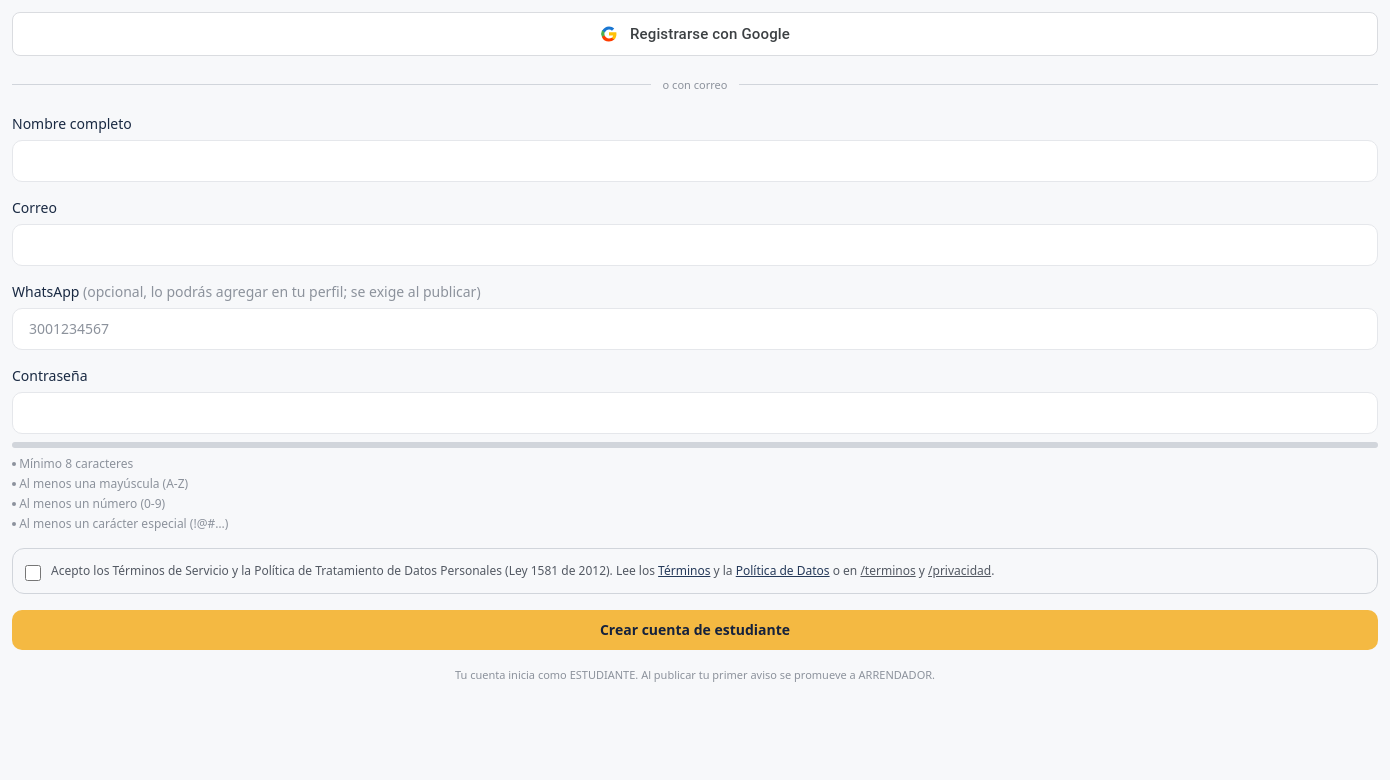
Test: RegistroForm cobertura honesta (Ley 1581 + progressive profiling) › error 400 del backend muestra mensaje sin lanzar
Type "Ana Ríos" into the field labelled "Nombre completo". click: (695, 161)
box: [12, 140, 1378, 182]
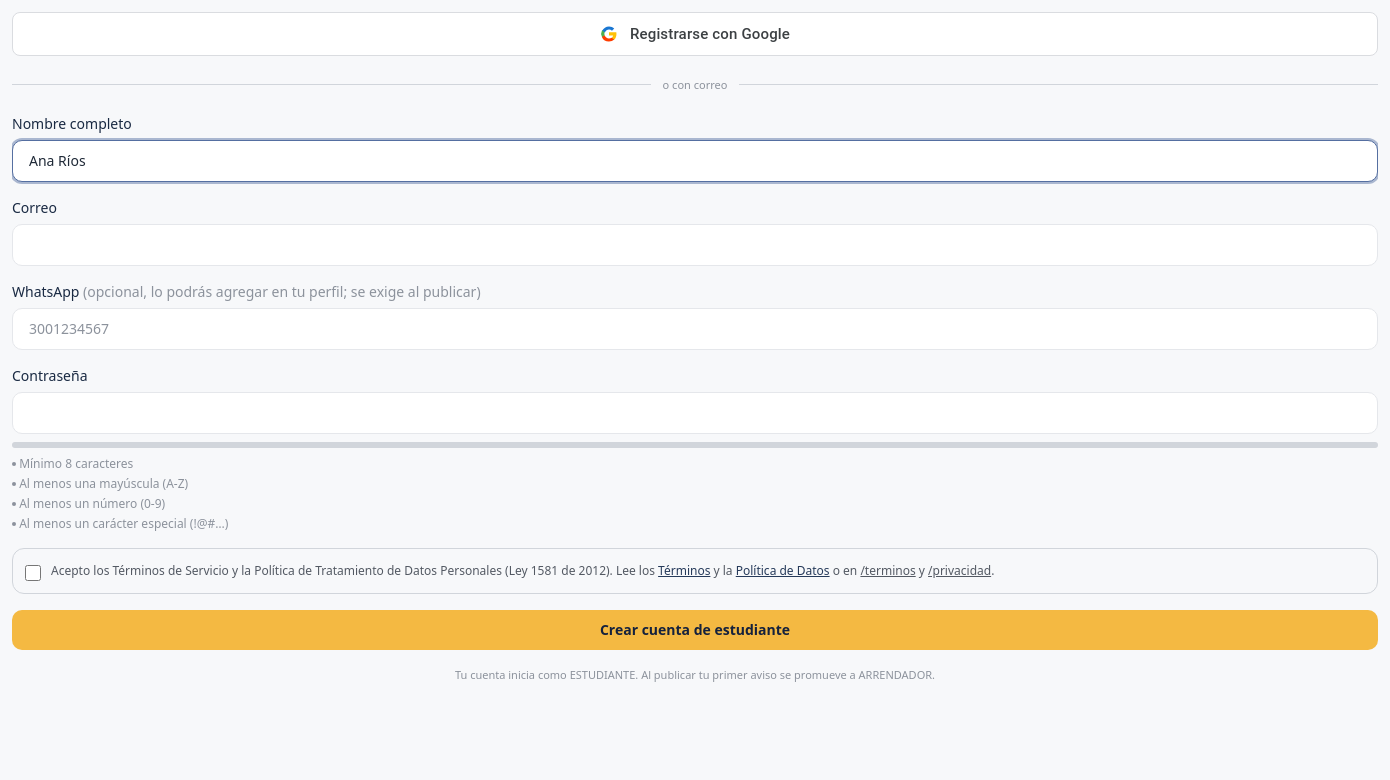
Type "dup@x.co" into the field labelled "Correo". click: (695, 245)
box: [12, 224, 1378, 266]
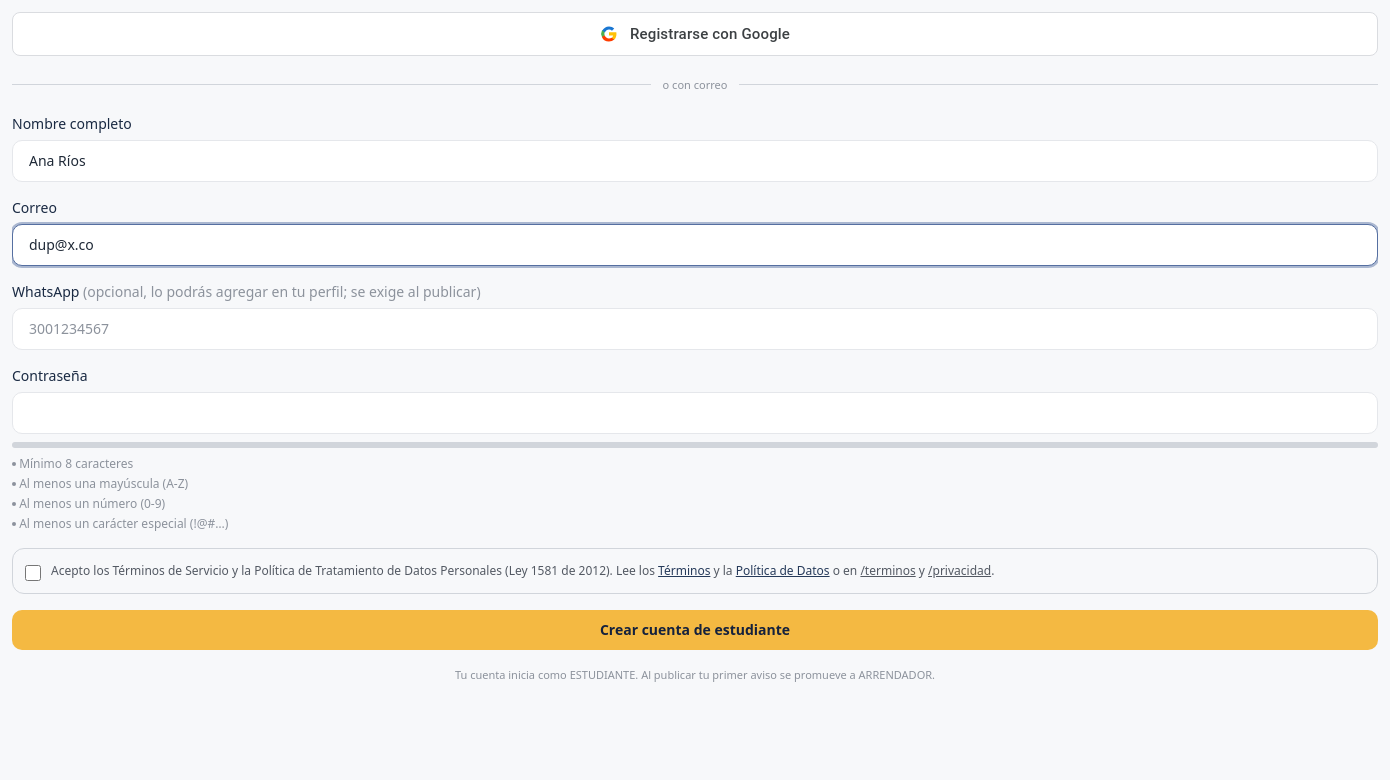
Type "Fuerte1!x" into the password field labelled "Contraseña". click: (695, 413)
box: [12, 392, 1378, 434]
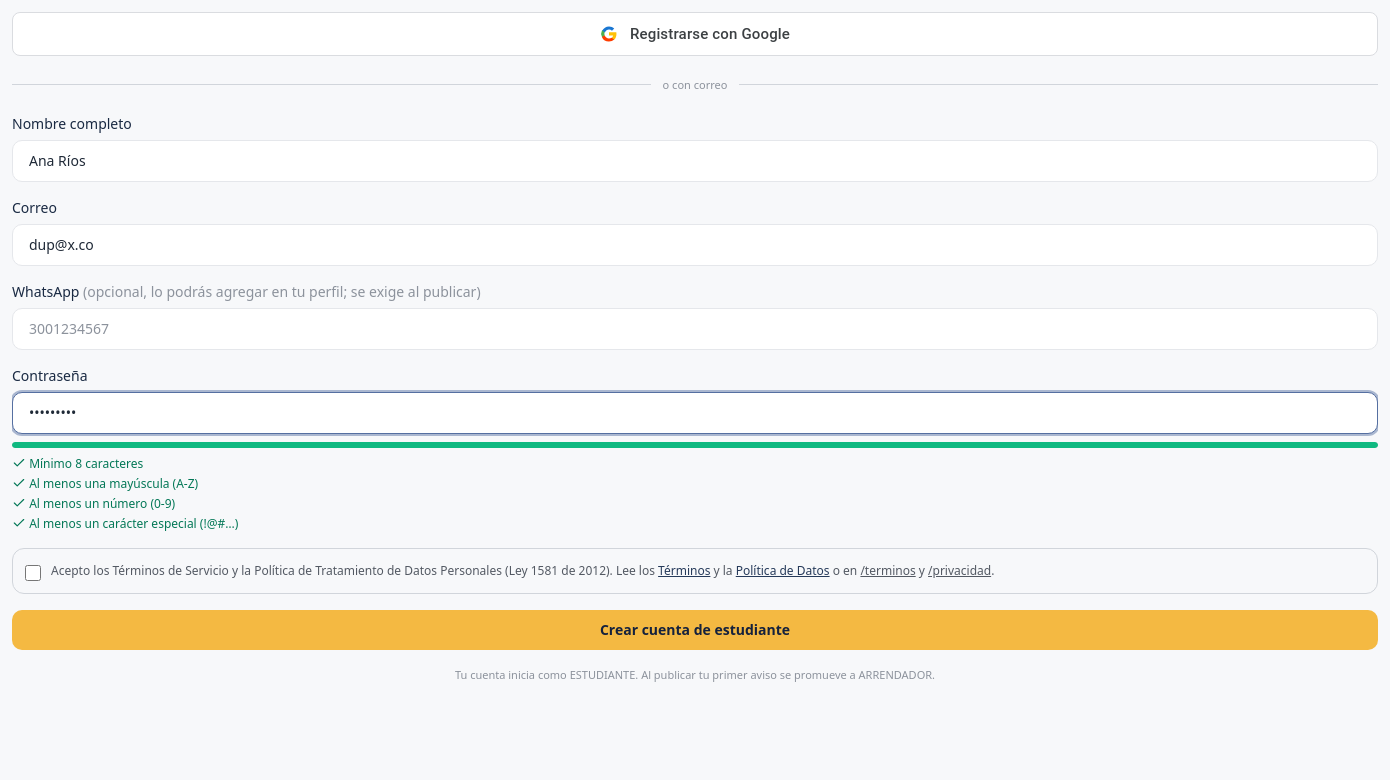
Click the checkbox. click: (33, 573)
box: [25, 565, 41, 581]
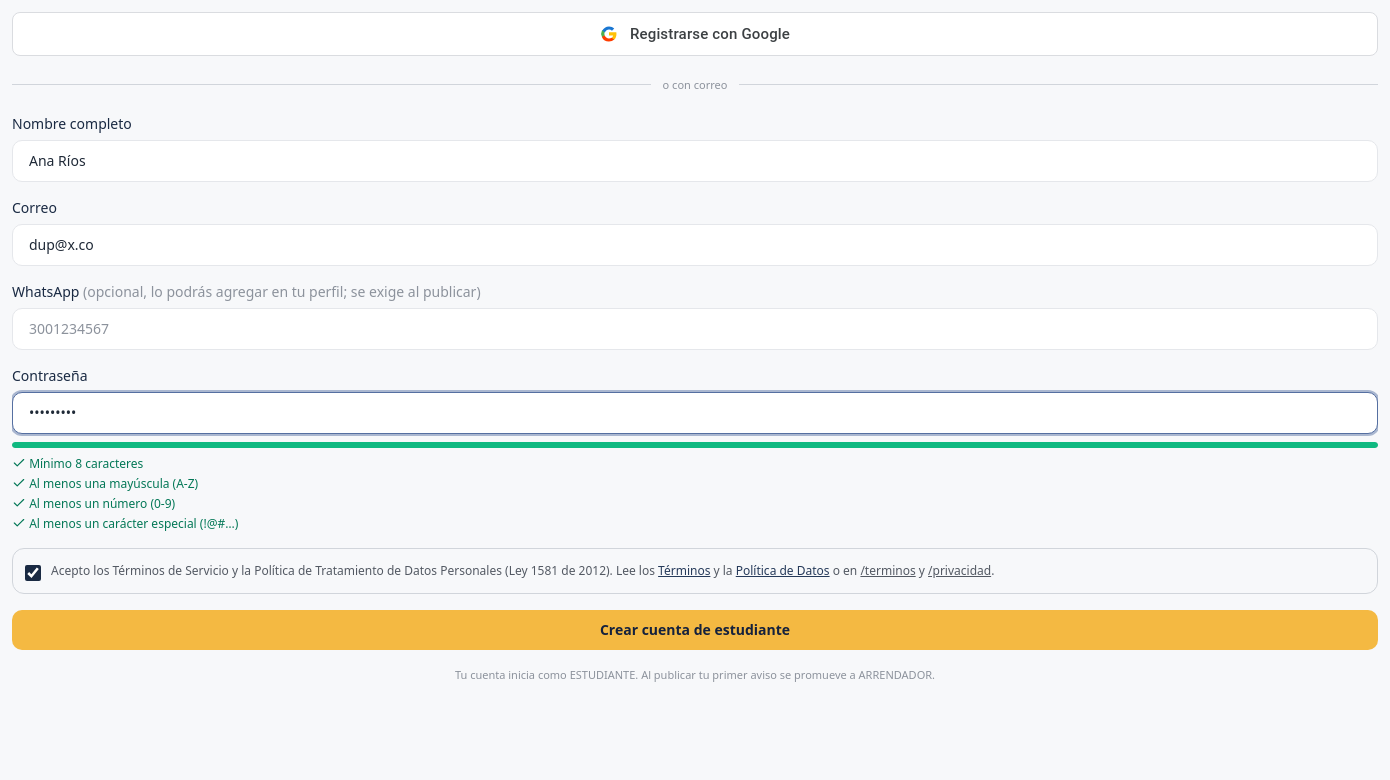
Click the button "Crear cuenta de estudiante". click: (695, 630)
box: [12, 610, 1378, 650]
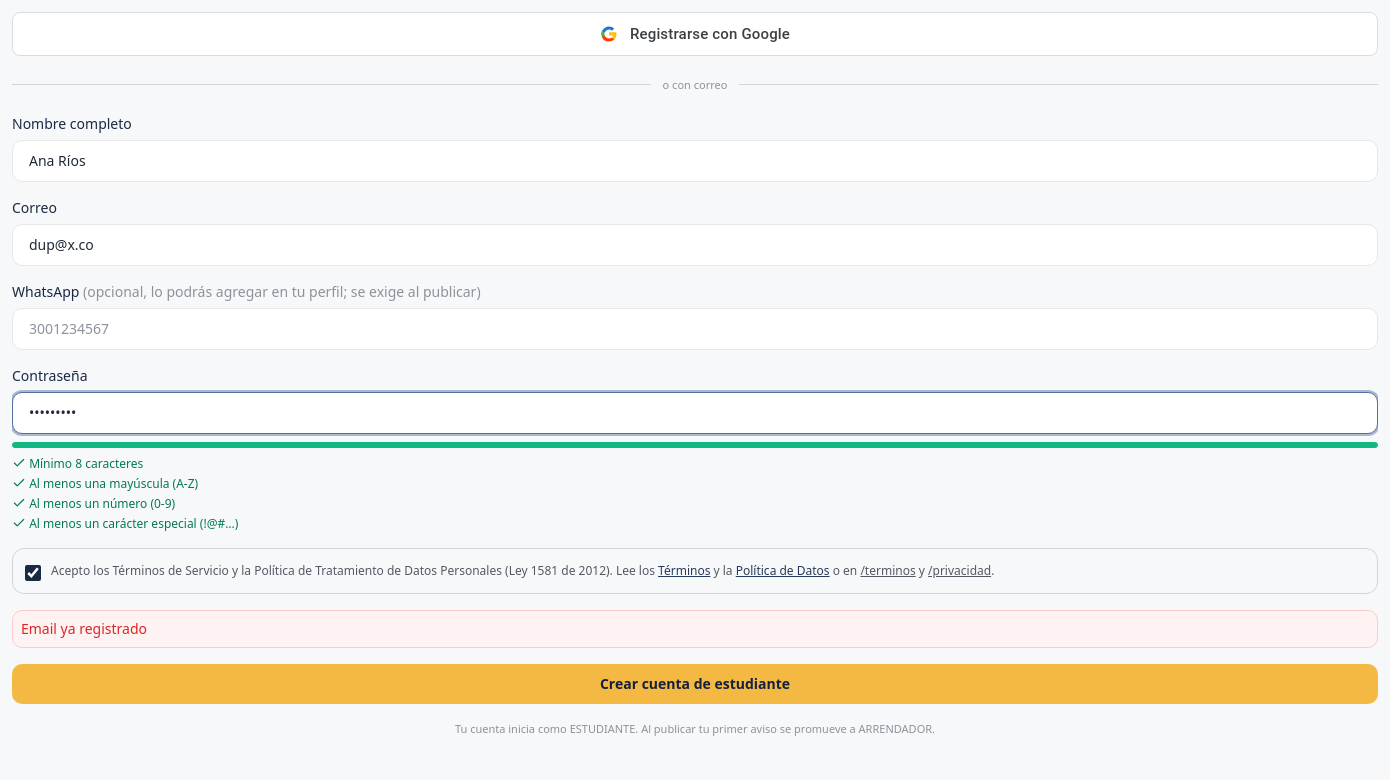
expect the message reads "Email ya registrado": met, box [21, 619, 147, 638]
